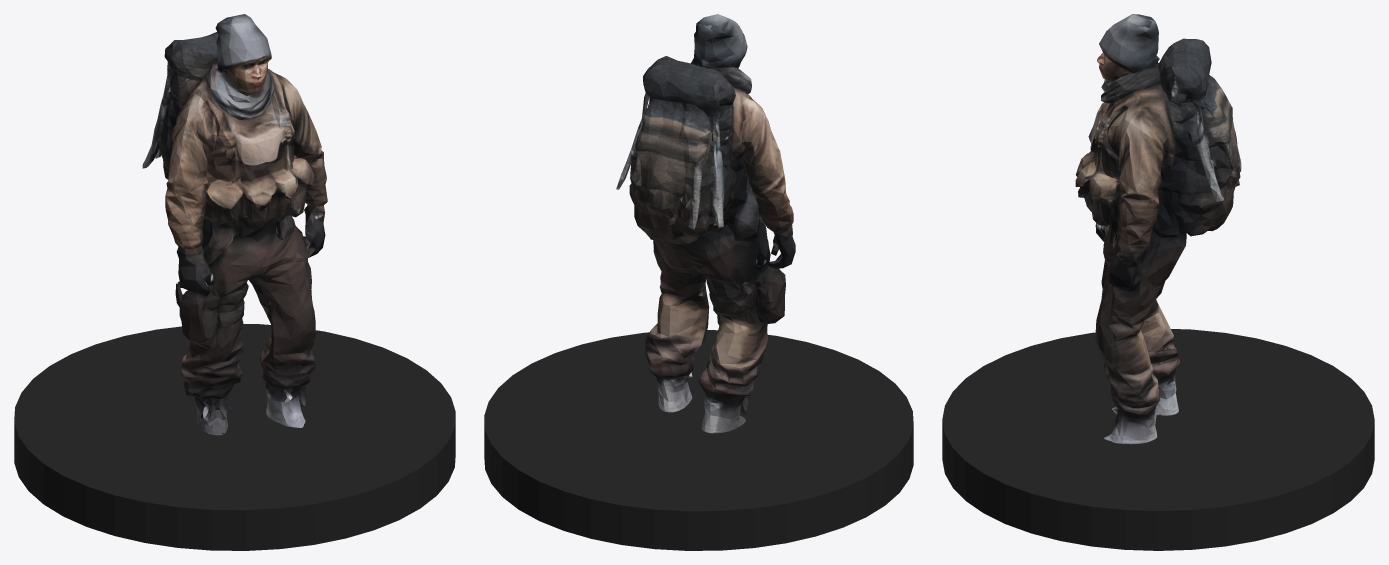
Rendered from thomas-heart.glb.
3 views of the same model, side by side, from view 1: azimuth 30°, elevation 25°; view 2: azimuth 150°, elevation 25°; view 3: azimuth 270°, elevation 25° (orthographic). The views are drawn at different scales.
Visible parts, largest first — view 1: base, figure; view 2: base, figure; view 3: base, figure.
Part boxes in pixels (box(x1,y1,x2,y2)): base: box(14, 324, 455, 550); figure: box(142, 14, 327, 435); base: box(484, 330, 913, 550); figure: box(616, 14, 795, 433); base: box(942, 329, 1374, 550); figure: box(1075, 14, 1241, 444).
Size of the model in its own units: 1.18 by 1.32 by 1.18.
2 materials, 1 textured.
